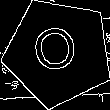O_S: (33, 24, 83, 81)
